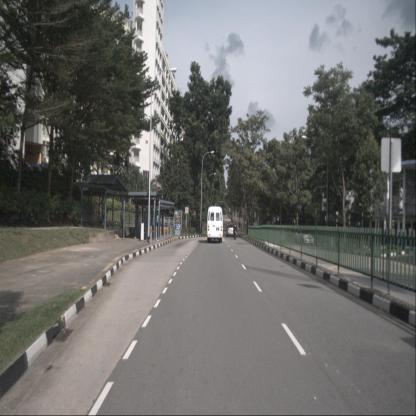human-pedestrian-adult: (356, 221, 361, 250)
vehicle-car: (207, 206, 223, 244), (295, 229, 314, 245), (226, 224, 237, 238)
vehicle-motorcycle: (233, 221, 238, 240)
